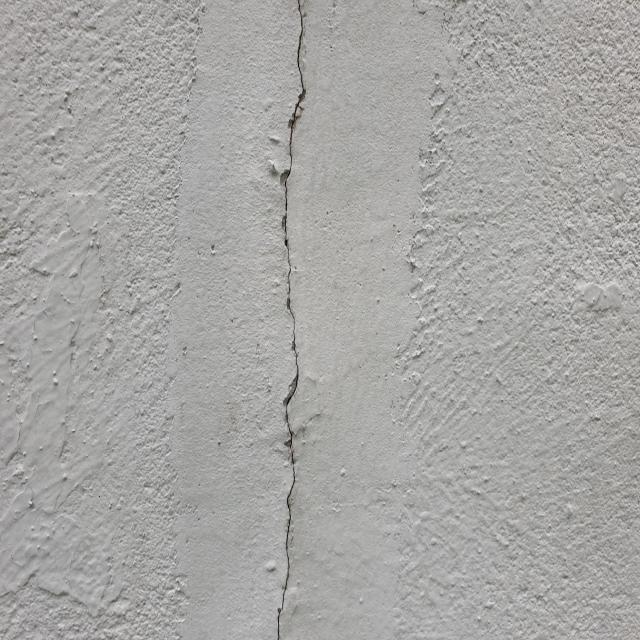SurfaceCrack: (231, 1, 349, 640)
